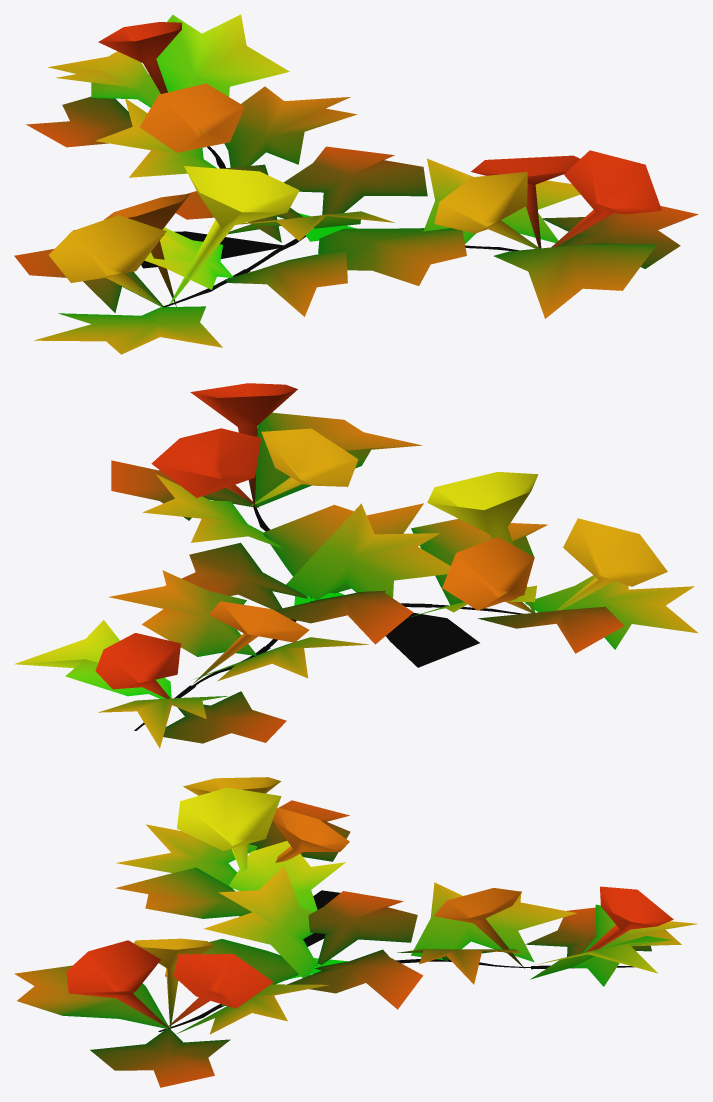
File: Mile-a-minute Vine_LOD0_Var3_sfqns.fbx
3 renders of one model, top to bottom at view 1: azimuth 30°, elevation 25°; view 2: azimuth 150°, elevation 25°; view 3: azimuth 270°, elevation 25°, orthographic. The views are drawn at different scales.
Parts seen in each view (by area): view 1: _18c5_Var3_LOD0; view 2: _18c5_Var3_LOD0; view 3: _18c5_Var3_LOD0.
Boxes of the visible parts, box(x1,y1,x2,y2) form: _18c5_Var3_LOD0: box(14, 14, 698, 354); _18c5_Var3_LOD0: box(14, 383, 698, 748); _18c5_Var3_LOD0: box(14, 777, 697, 1087).
Size of the model in its own units: 33.88 by 6.26 by 35.54.
